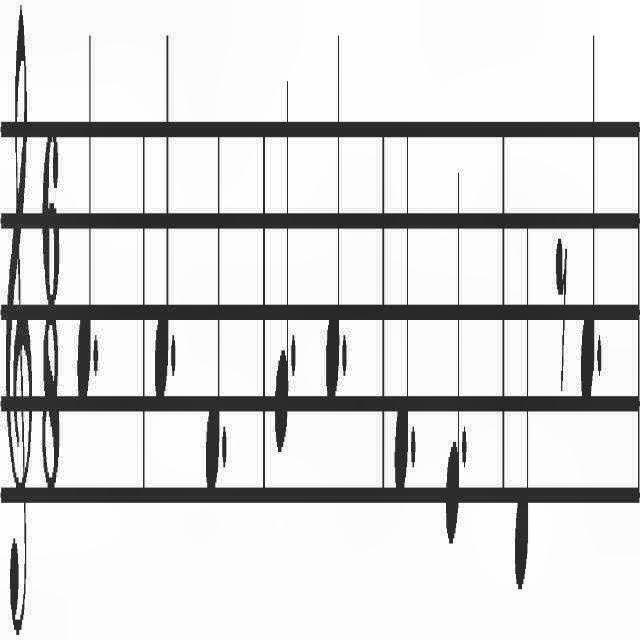Bass-clef: (6, 0, 34, 640)
Eighth-rest: (556, 234, 568, 390)
Quarter-note: (153, 26, 171, 407), (204, 121, 222, 499), (76, 18, 92, 418), (274, 70, 290, 460), (325, 23, 341, 413), (580, 24, 596, 412), (394, 118, 410, 502), (514, 214, 530, 596), (445, 167, 461, 548)
